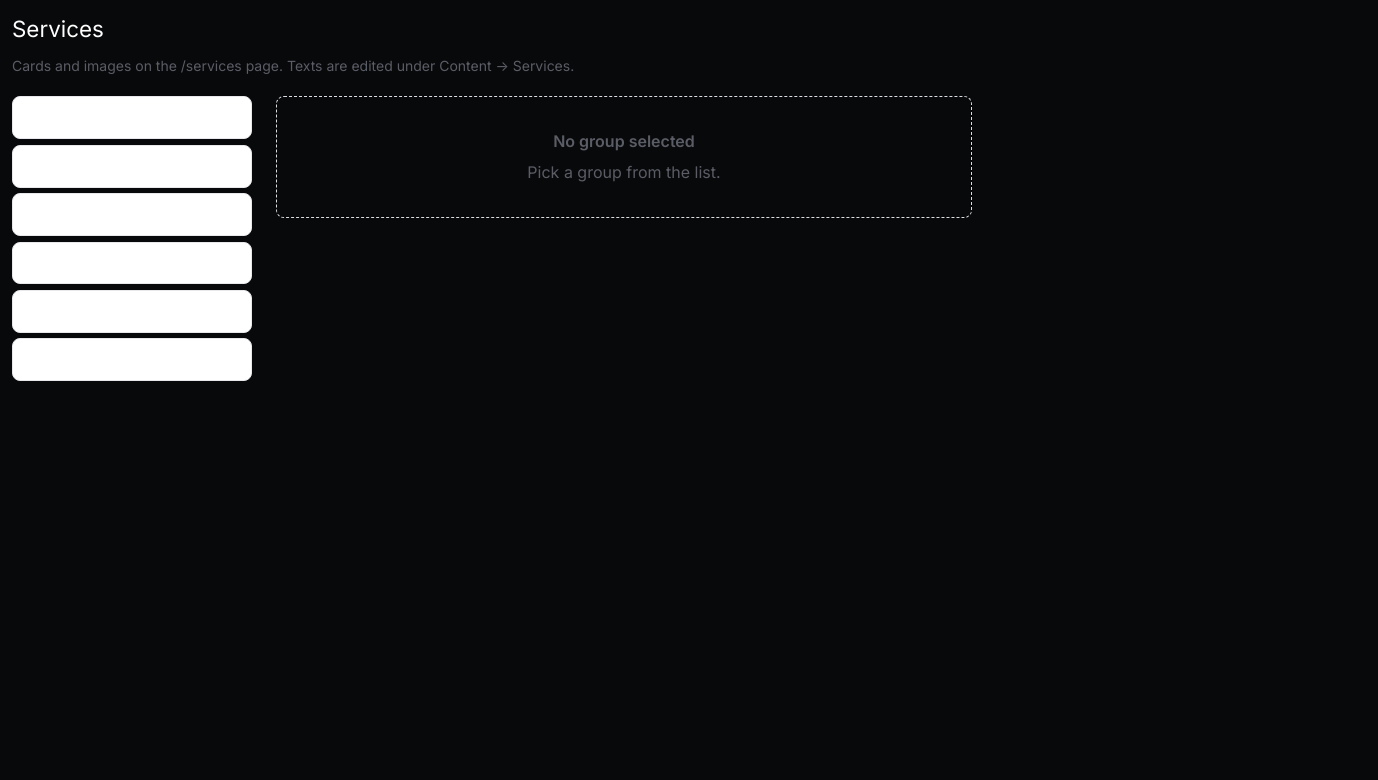
Test: ServicesPageCards › Hero cards: exactly 4 cards, no add button
The image size is (1378, 780).
Click the button "Hero cards" at (132, 118), box [12,96,252,139]
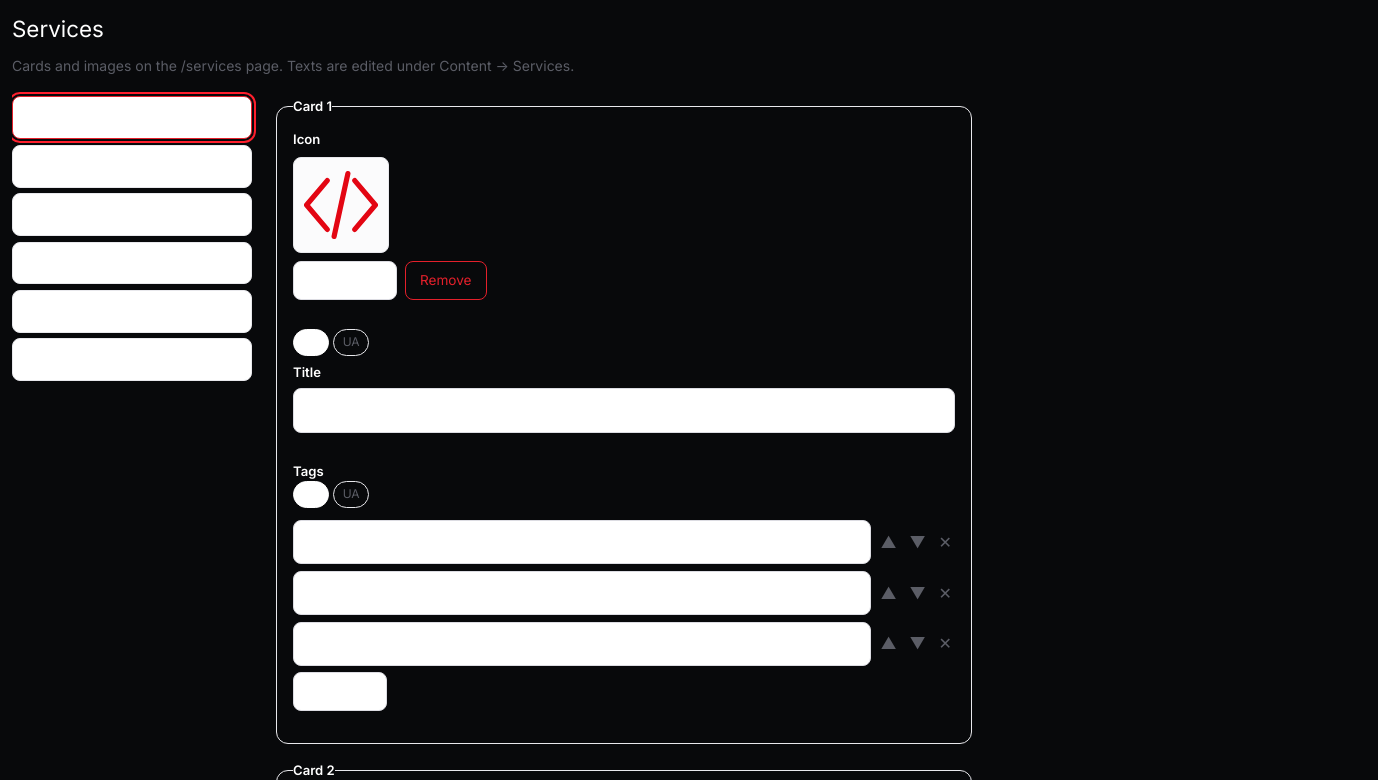
Expected: the text "Card 1" is shown 4 times
